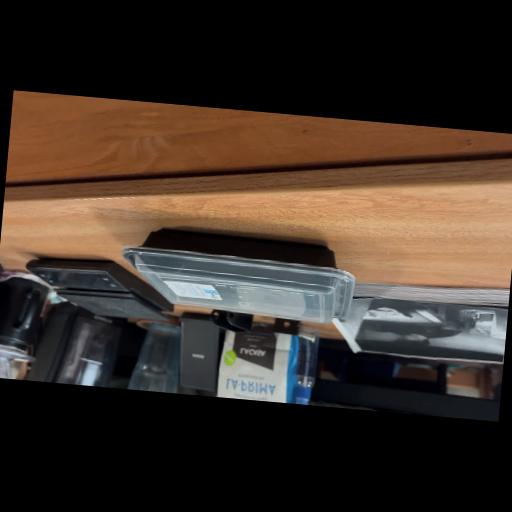rigid_plastic_container: (120, 226, 352, 325)
